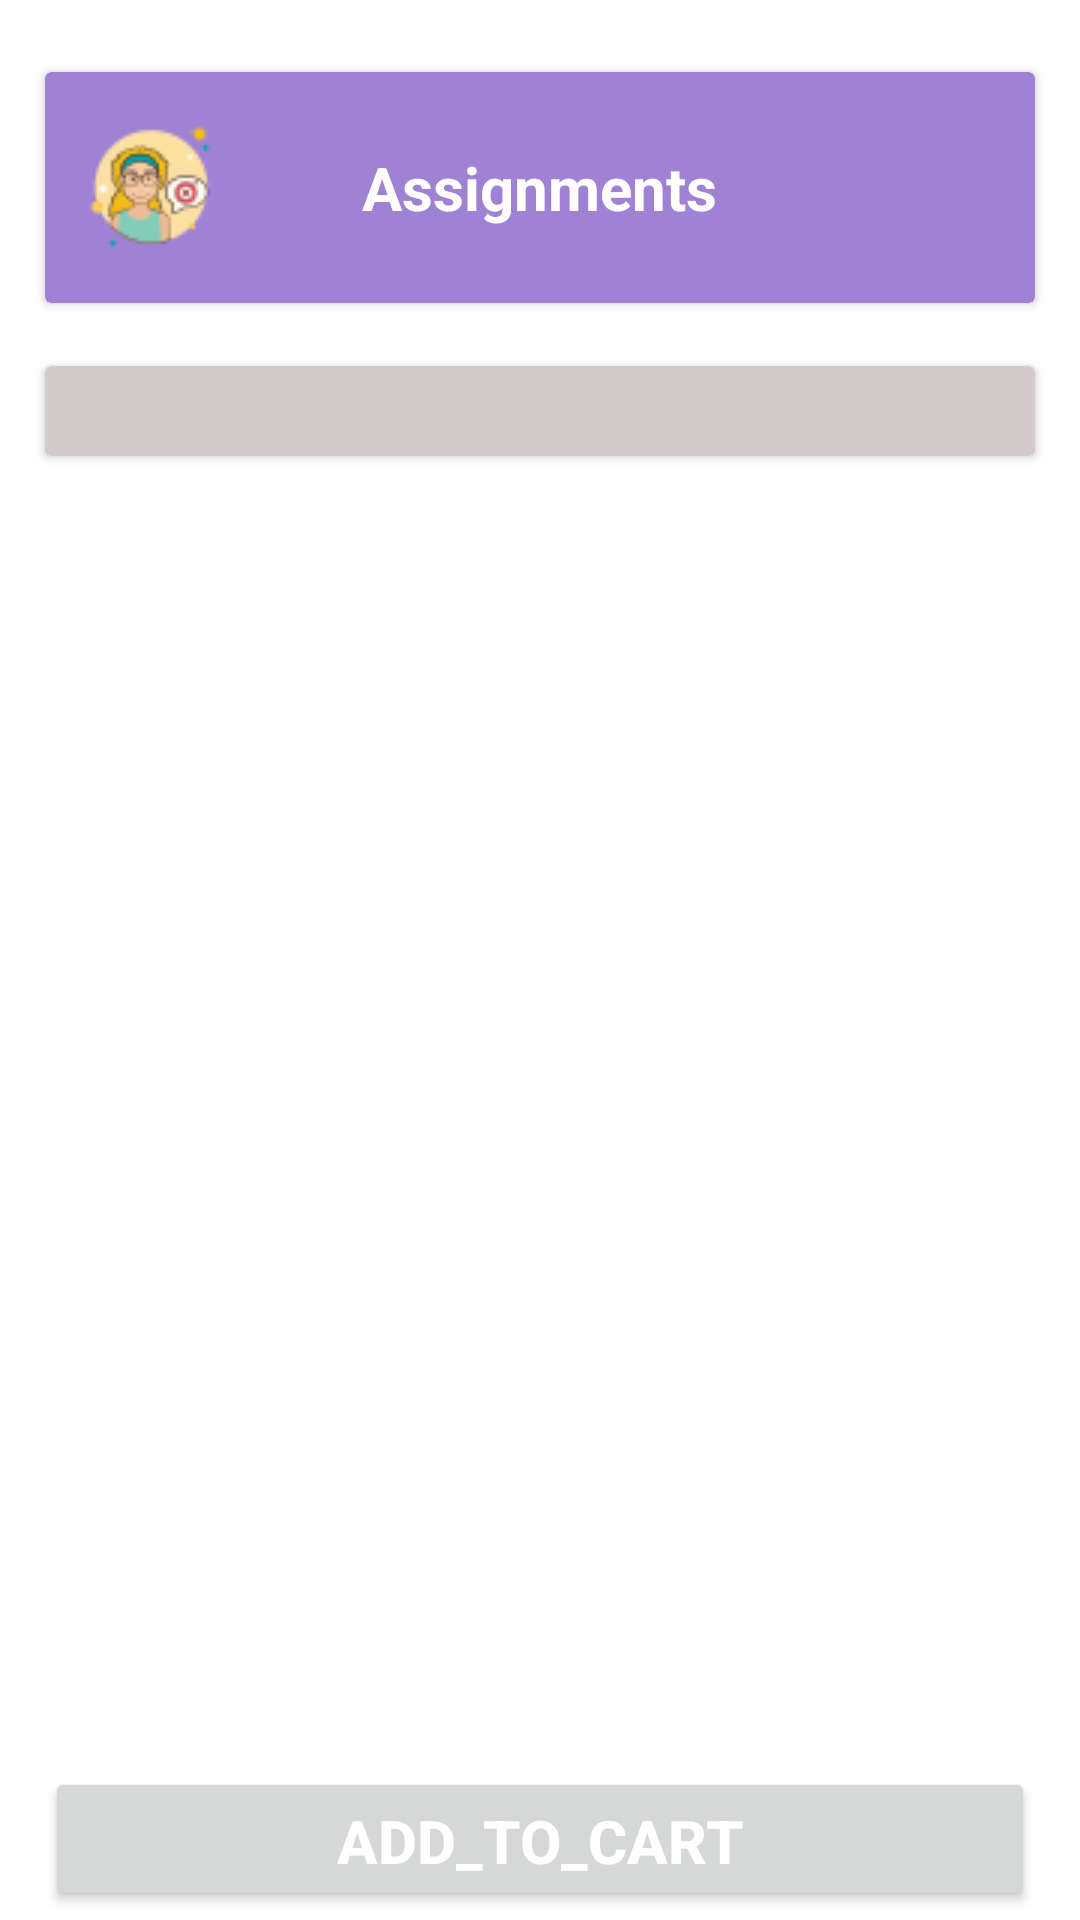

Icon bounding boxes for this 1080×1920 phone screenshot, format (x1, y1, x2, y2):
character: (90, 126, 210, 248)
